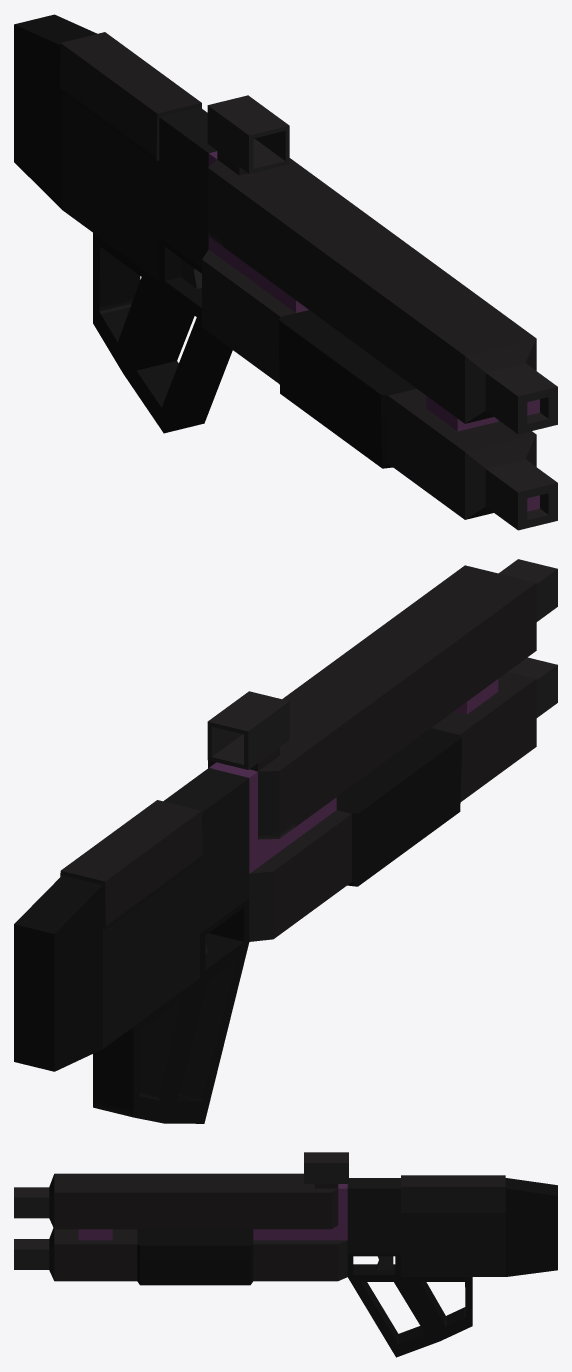
Rendered from Rail_Gun.fbx.
3 views of the same model, one above another, from view 1: azimuth 30°, elevation 25°; view 2: azimuth 150°, elevation 25°; view 3: azimuth 270°, elevation 25° (orthographic). The views are drawn at different scales.
Parts seen in each view (by area): view 1: Rail_Gun; view 2: Rail_Gun; view 3: Rail_Gun.
Boxes of the visible parts, x1,y1,x2,y2 form: Rail_Gun: (14,14,557,530); Rail_Gun: (14,559,557,1123); Rail_Gun: (14,1152,557,1357).
Bounding box in the file's own units: 0.09 × 0.3853 × 0.9764.
